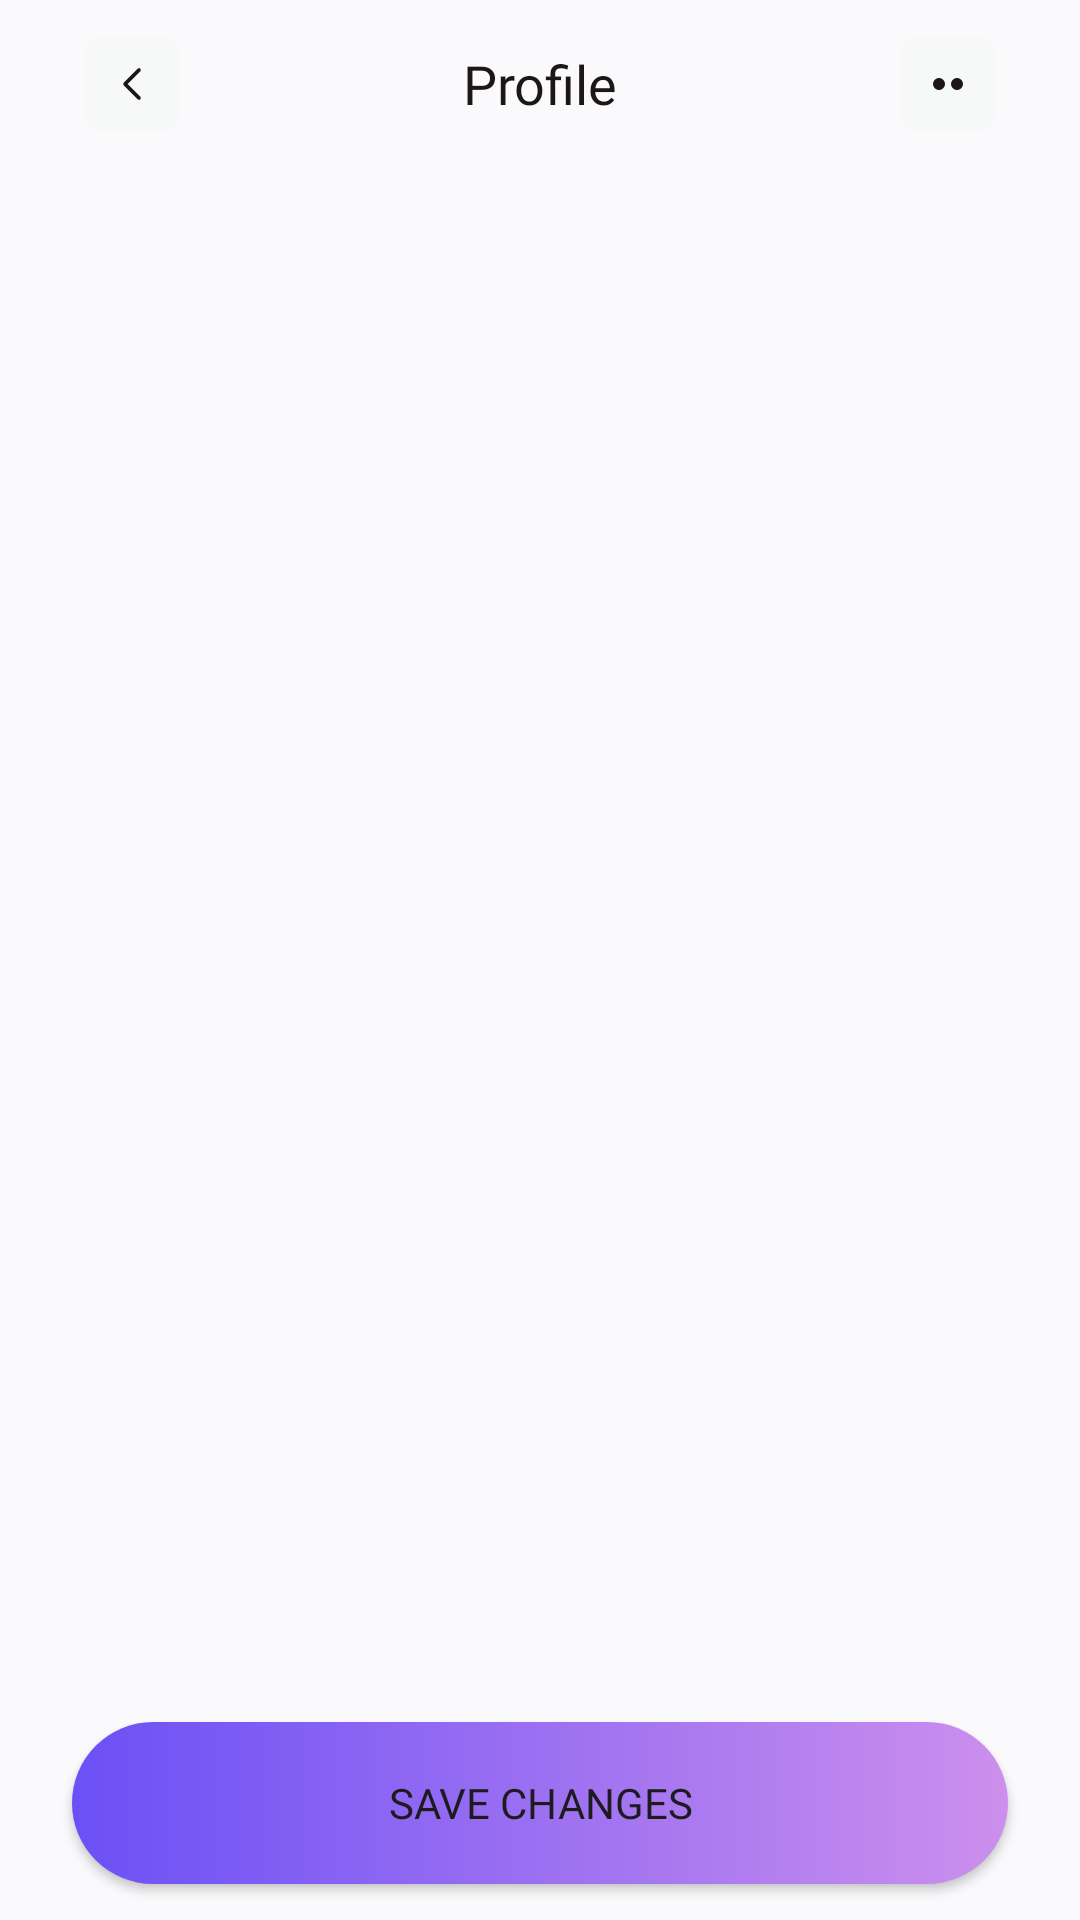

Named icons in this screenshot (1080w x 1920h) and their centers, (x=x, y=y):
Back: (x=132, y=84)
